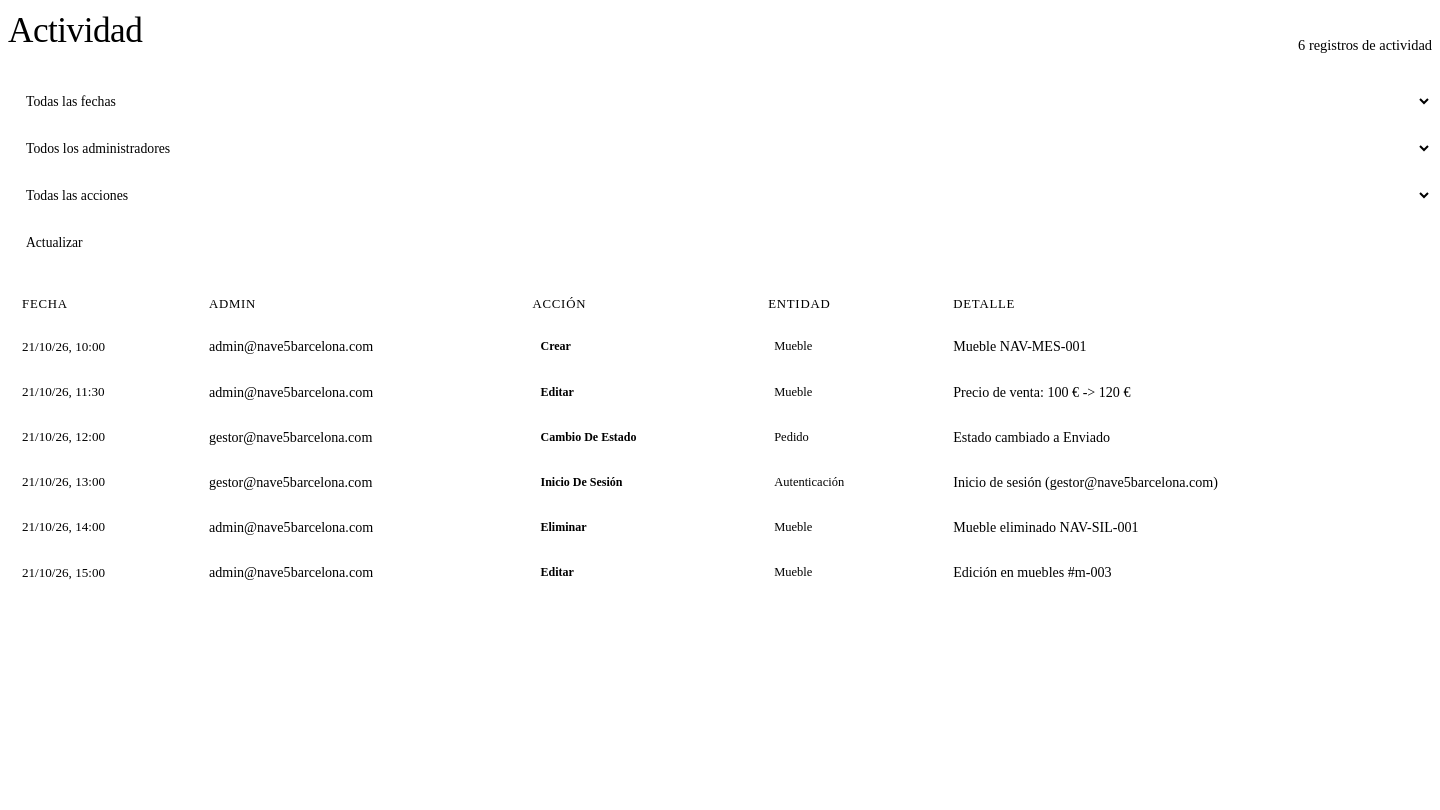
Test: ActividadTab › Filtros › filtra por administrador
The width and height of the screenshot is (1440, 810).
Expected: the text "Precio de venta: 100 € -> 120 €" is shown, [939,370,1432,415]
Select "gestor@nave5barcelona.com" in the dropdown named "Filtrar por admin" at x=720, y=148, box [8,131,1432,166]
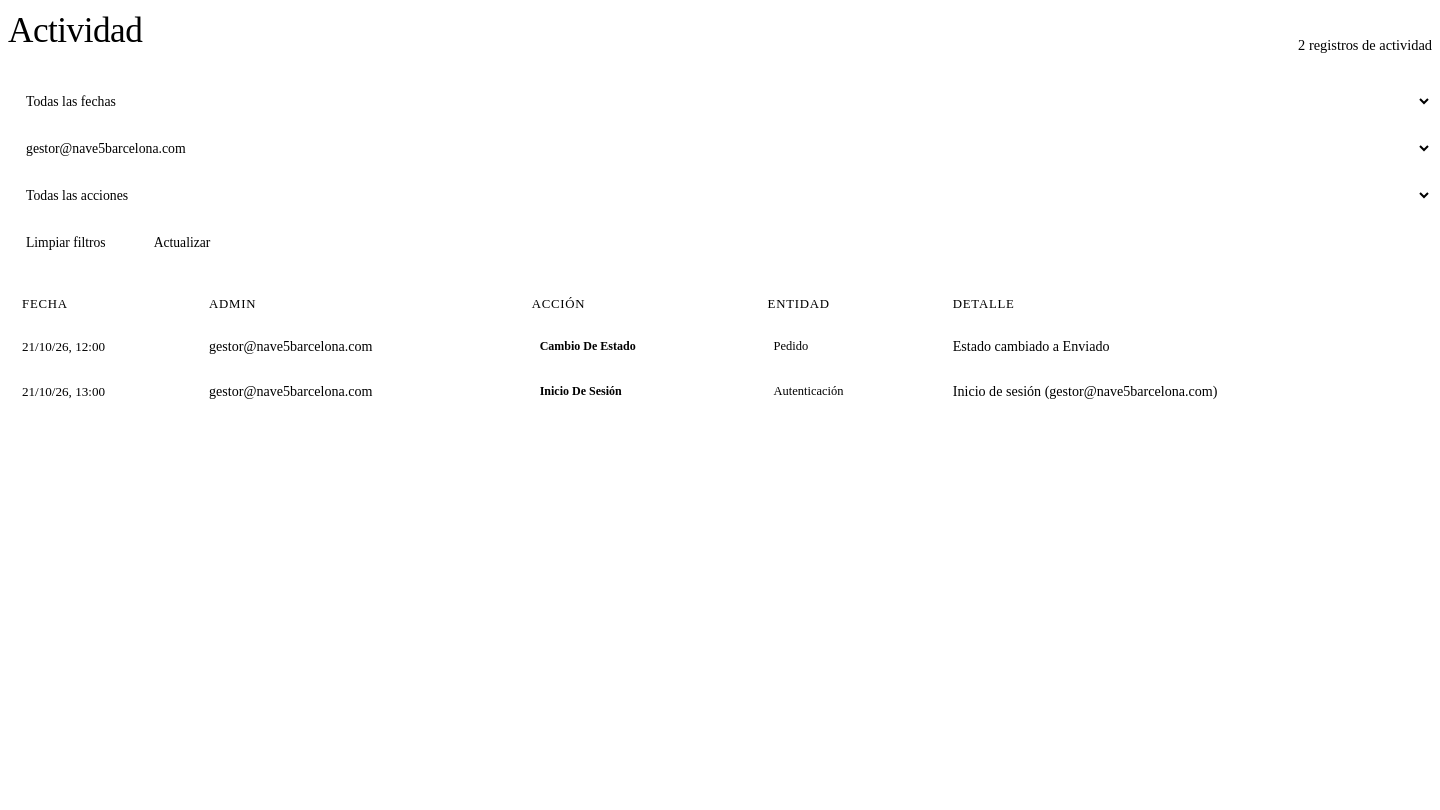
Expected: the text "Estado cambiado a Enviado" is shown, [939,324,1432,369]
Expected: the button "Precio de venta: 100 € -> 120 €" is gone
